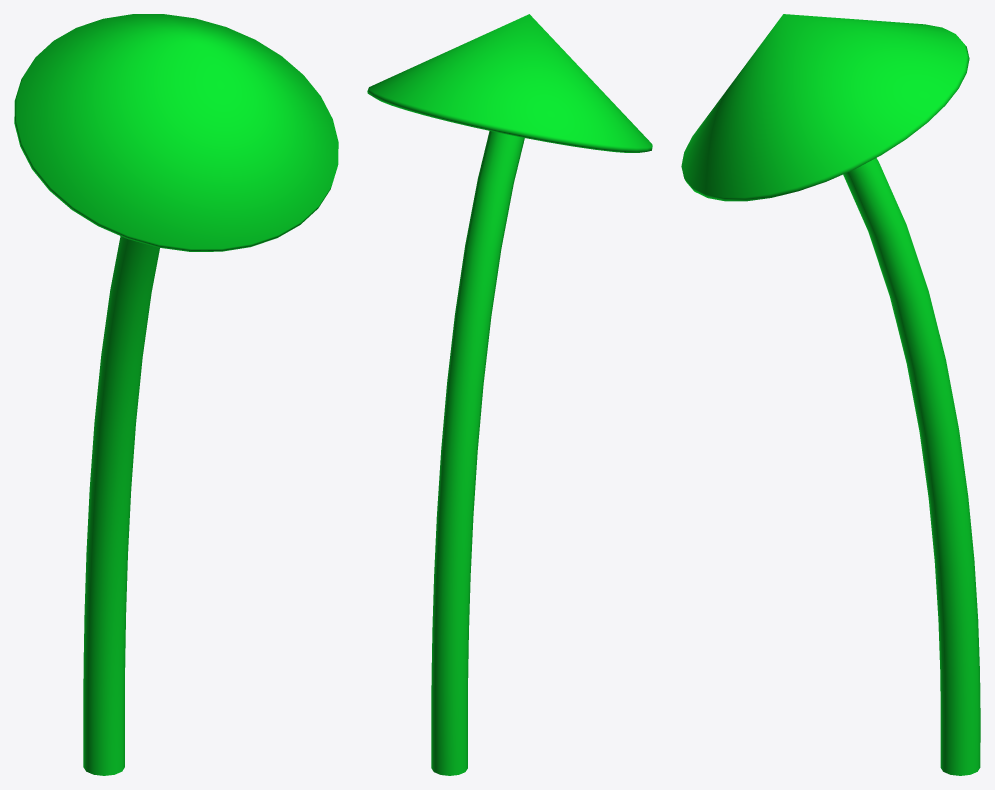
Rendered from Seta_Verde_Patron.glb.
3 views of the same model, side by side, from view 1: azimuth 30°, elevation 25°; view 2: azimuth 150°, elevation 25°; view 3: azimuth 270°, elevation 25° (orthographic). The views are drawn at different scales.
Visible parts, largest first — view 1: BézierCurve; view 2: BézierCurve; view 3: BézierCurve.
Part boxes in pixels (x1,y1,x2,y2): BézierCurve: [14, 14, 338, 775]; BézierCurve: [367, 14, 652, 775]; BézierCurve: [681, 14, 980, 775].
Bounding box in the file's own units: 0.6399 × 1.67 × 0.6017.
